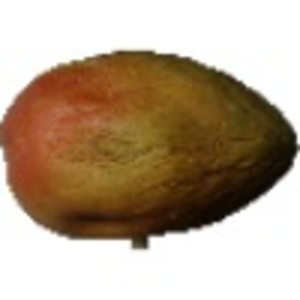mamão: (5, 42, 297, 259)
